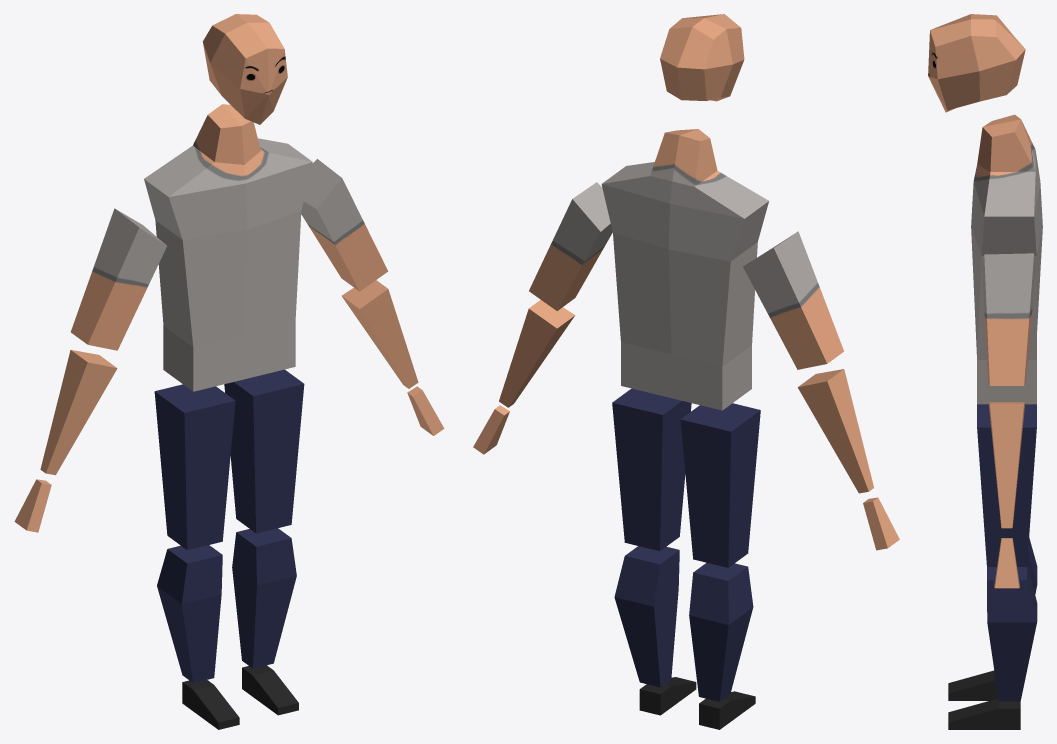
The model's file is The-Schlakerman.fbx.
3 renders of one model, left to right at view 1: azimuth 30°, elevation 25°; view 2: azimuth 150°, elevation 25°; view 3: azimuth 270°, elevation 25°, orthographic.
Parts seen in each view (by area): view 1: polySurface1, polySurface13, polySurface7, polySurface11, polySurface8, polySurface14, polySurface3, polySurface5, polySurface12, polySurface6, polySurface9, polySurface2 (+2 smaller); view 2: polySurface1, polySurface13, polySurface7, polySurface11, polySurface8, polySurface14, polySurface3, polySurface5, polySurface12, polySurface6, polySurface2, polySurface9 (+2 smaller); view 3: polySurface1, polySurface3, polySurface5, polySurface7, polySurface8, polySurface6, polySurface2, polySurface9, polySurface4, polySurface14.
Part boxes in pixels (x1=…): polySurface1: x1=144, y1=104, x2=312, y2=391; polySurface13: x1=154, y1=384, x2=235, y2=550; polySurface7: x1=224, y1=369, x2=304, y2=533; polySurface11: x1=71, y1=208, x2=166, y2=350; polySurface8: x1=232, y1=528, x2=296, y2=668; polySurface14: x1=157, y1=545, x2=222, y2=682; polySurface3: x1=202, y1=14, x2=287, y2=124; polySurface5: x1=301, y1=159, x2=388, y2=291; polySurface12: x1=40, y1=350, x2=117, y2=475; polySurface6: x1=341, y1=280, x2=418, y2=388; polySurface9: x1=182, y1=680, x2=239, y2=729; polySurface2: x1=242, y1=665, x2=298, y2=715; polySurface1: x1=601, y1=129, x2=768, y2=410; polySurface13: x1=680, y1=403, x2=760, y2=567; polySurface7: x1=612, y1=388, x2=691, y2=551; polySurface11: x1=743, y1=231, x2=843, y2=369; polySurface8: x1=614, y1=546, x2=679, y2=687; polySurface14: x1=689, y1=562, x2=753, y2=701; polySurface3: x1=660, y1=14, x2=744, y2=101; polySurface5: x1=529, y1=182, x2=612, y2=310; polySurface12: x1=797, y1=369, x2=873, y2=493; polySurface6: x1=499, y1=300, x2=575, y2=407; polySurface2: x1=639, y1=677, x2=696, y2=715; polySurface9: x1=699, y1=691, x2=755, y2=729; polySurface1: x1=971, y1=114, x2=1042, y2=404; polySurface3: x1=928, y1=14, x2=1025, y2=112; polySurface5: x1=981, y1=253, x2=1036, y2=385; polySurface7: x1=977, y1=404, x2=1036, y2=566; polySurface8: x1=987, y1=565, x2=1037, y2=701; polySurface6: x1=988, y1=402, x2=1025, y2=528; polySurface2: x1=948, y1=698, x2=1020, y2=729; polySurface9: x1=948, y1=670, x2=998, y2=700; polySurface4: x1=994, y1=538, x2=1019, y2=588; polySurface14: x1=1027, y1=537, x2=1037, y2=594.
Bounding box in the file's own units: 8.08 × 12.74 × 1.92.
